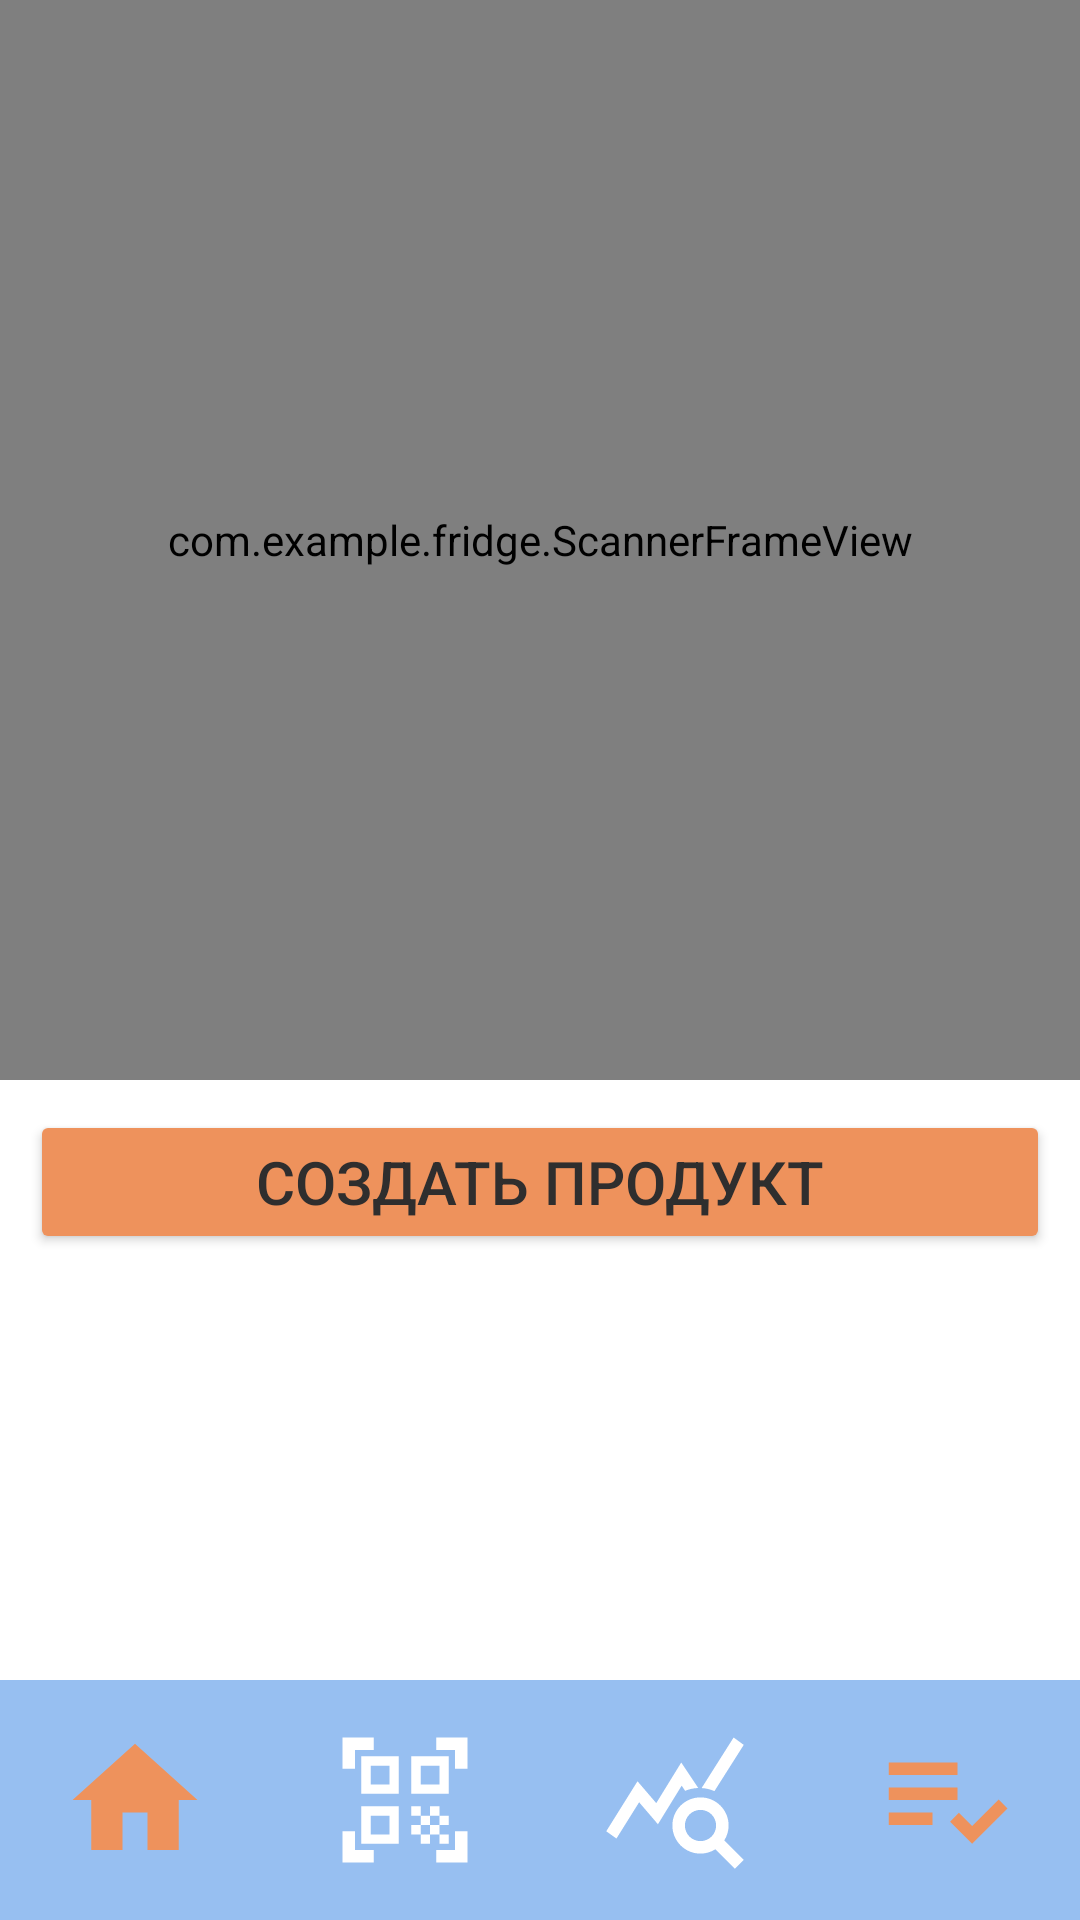

Point at icon controls on the screen. Image size 1080px×1920px, points as point (x, y).
Аналитика потребления товаров: point (675, 1803)
Главная: point (135, 1797)
Сканнер qr кодов: point (405, 1800)
Список покупок: point (948, 1803)
